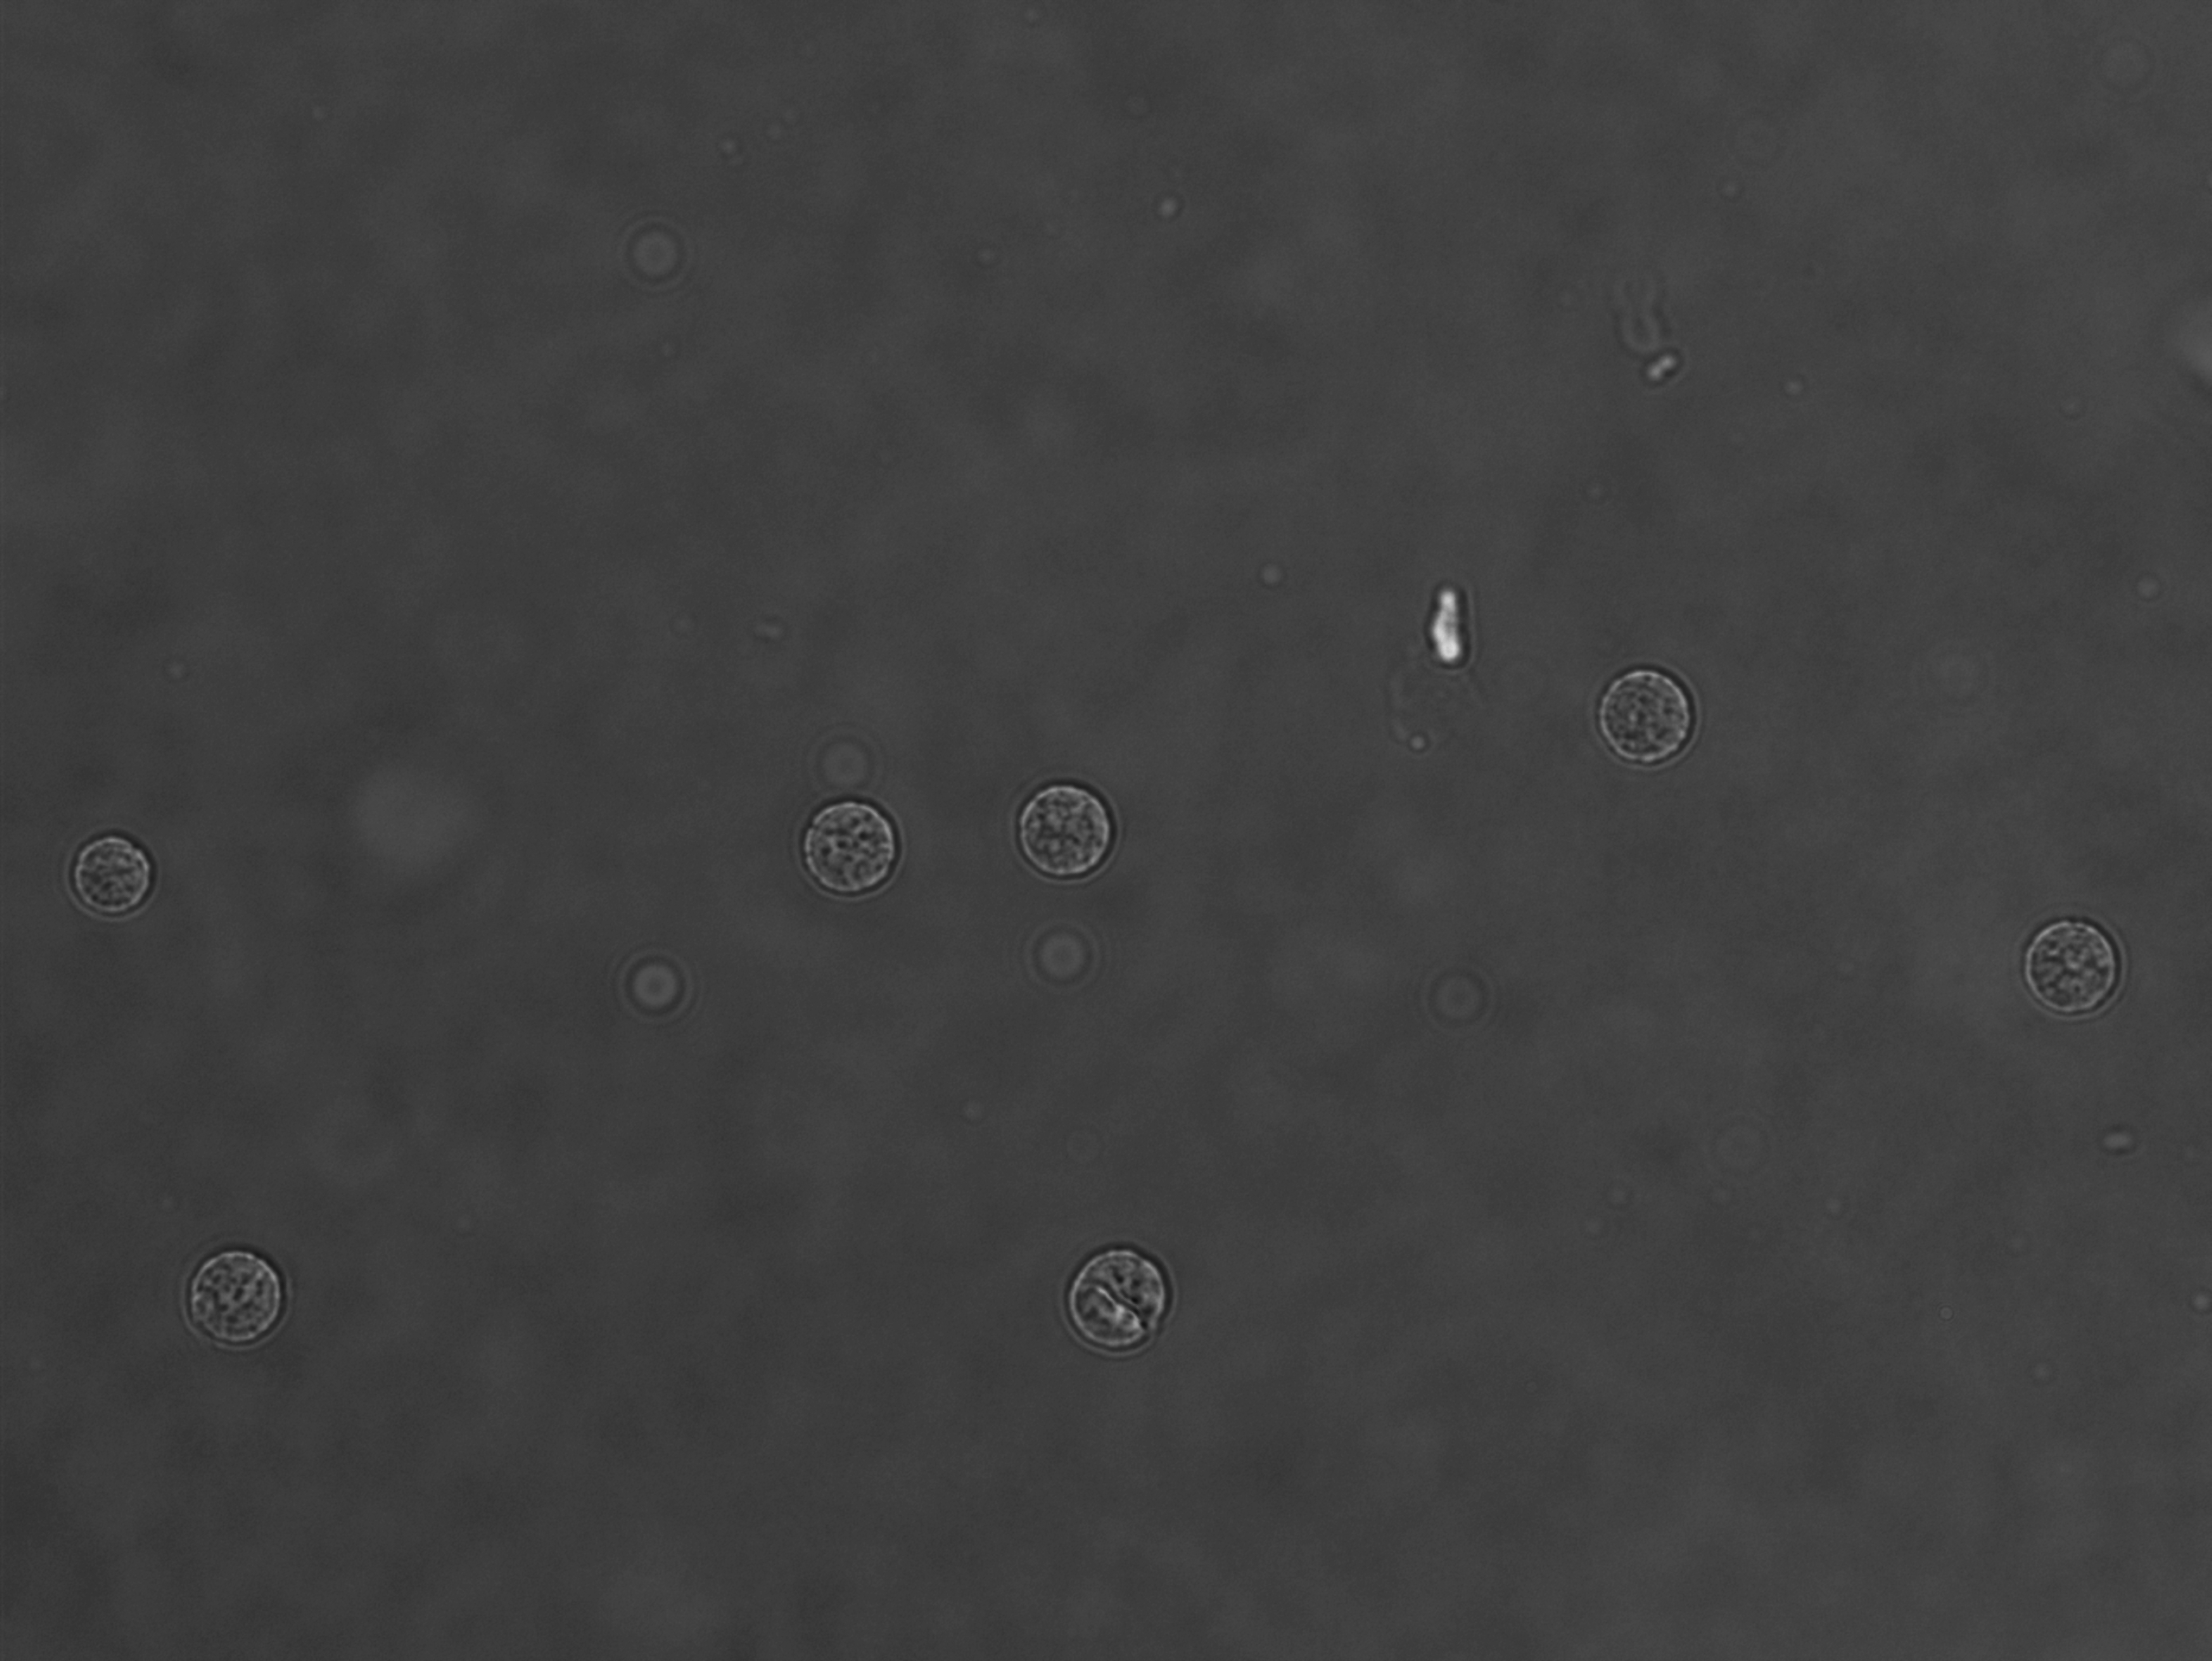depth:0: (1996, 883, 2168, 1049), (1031, 1225, 1204, 1371), (173, 1228, 328, 1366), (1570, 654, 1711, 785), (782, 771, 909, 907), (1001, 773, 1136, 900), (47, 813, 162, 926)
